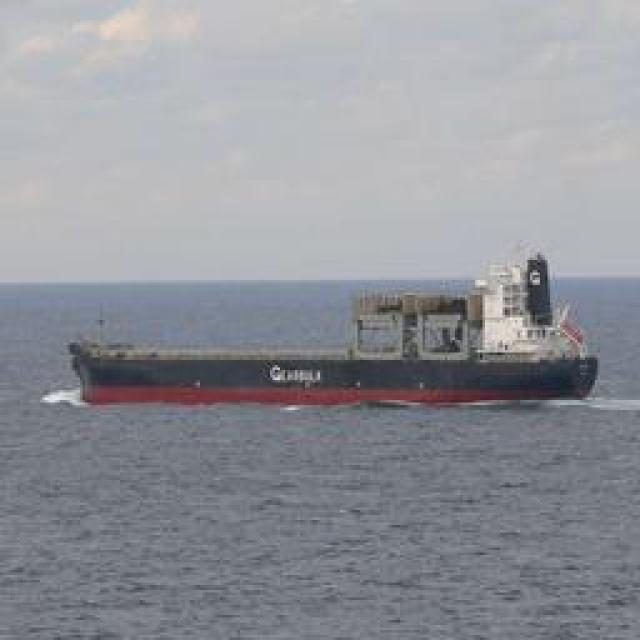ship2: (69, 254, 601, 409)
